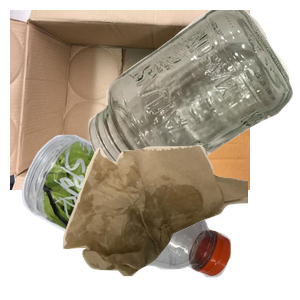cardboard: (10, 10, 250, 190)
glass: (86, 10, 300, 184)
plastic: (19, 132, 242, 300)
trash: (60, 142, 300, 300)
